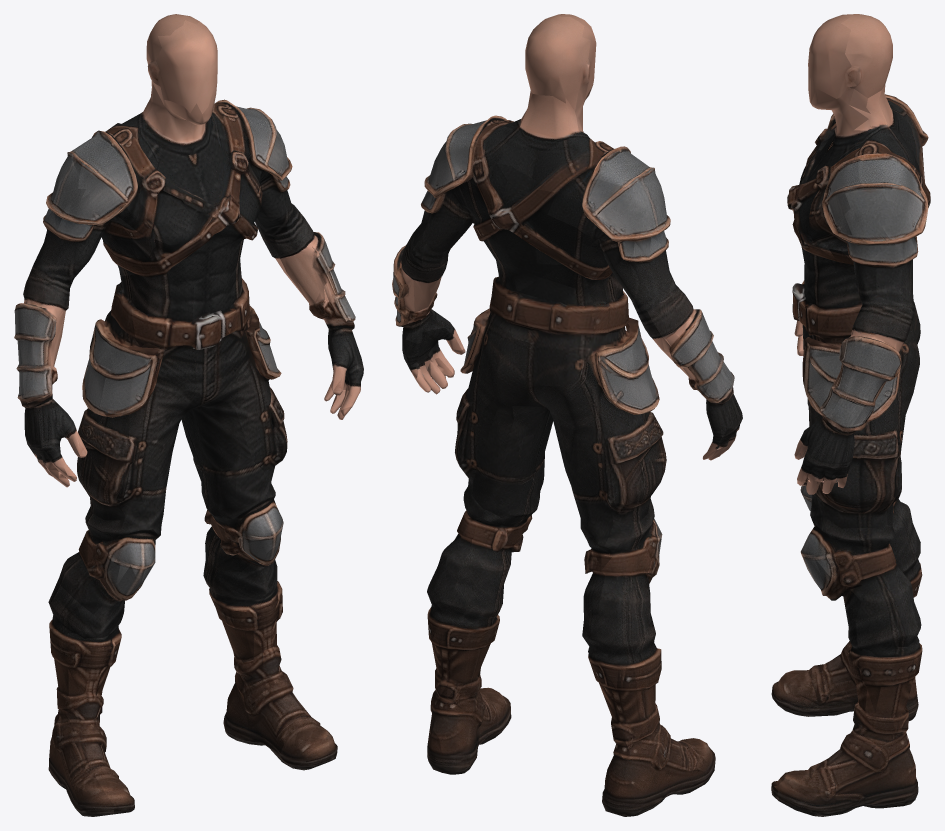
File: Corpo_Masculino_Médio.glb
3 renders of one model, left to right at view 1: azimuth 30°, elevation 25°; view 2: azimuth 150°, elevation 25°; view 3: azimuth 270°, elevation 25°, orthographic.
Visible parts, largest first — view 1: Mesh_0; view 2: Mesh_0; view 3: Mesh_0.
Boxes of the visible parts, x1,y1,x2,y2 form: Mesh_0: (14, 14, 363, 816); Mesh_0: (392, 14, 742, 816); Mesh_0: (771, 14, 930, 816).
Size of the model in its own units: 0.8742 by 1.9 by 0.3705.
1 material, 1 textured.
